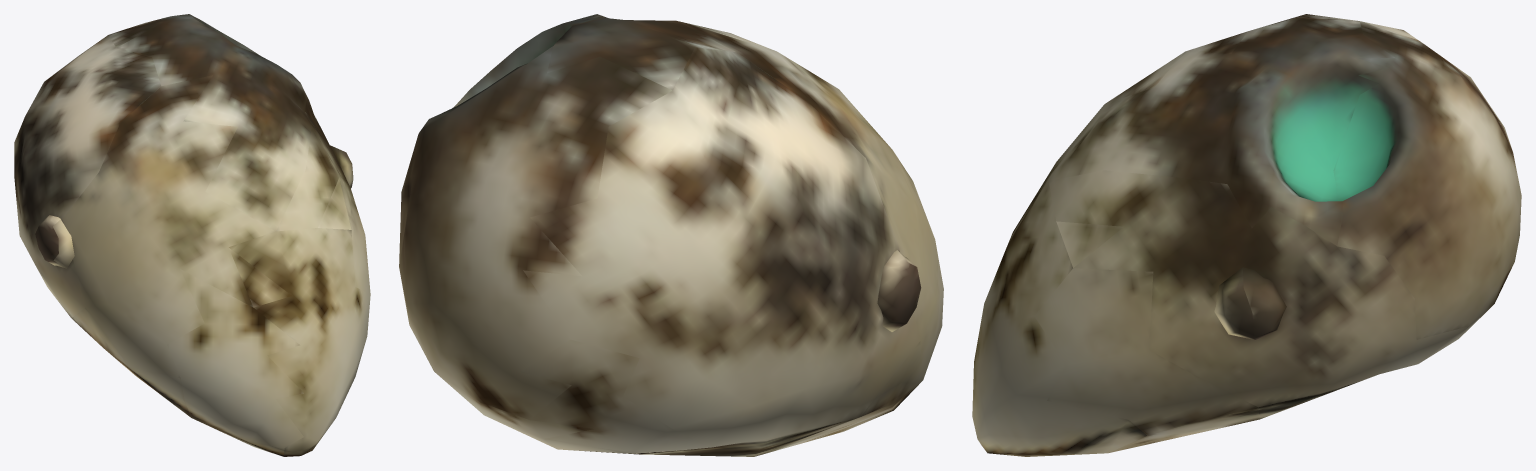
Rendered from head-worker.glb.
The picture shows the model from 3 angles, left to right: view 1: azimuth 30°, elevation 25°; view 2: azimuth 150°, elevation 25°; view 3: azimuth 270°, elevation 25°; orthographic projection. The views are drawn at different scales.
Parts seen in each view (by area): view 1: head-worker; view 2: head-worker; view 3: head-worker.
Boxes of the visible parts, x1=… form: head-worker: x1=14, y1=14, x2=370, y2=456; head-worker: x1=399, y1=14, x2=943, y2=456; head-worker: x1=972, y1=14, x2=1521, y2=456.
Bounding box in the file's own units: 0.5234 × 0.5293 × 0.6328.
1 material, 1 textured.
